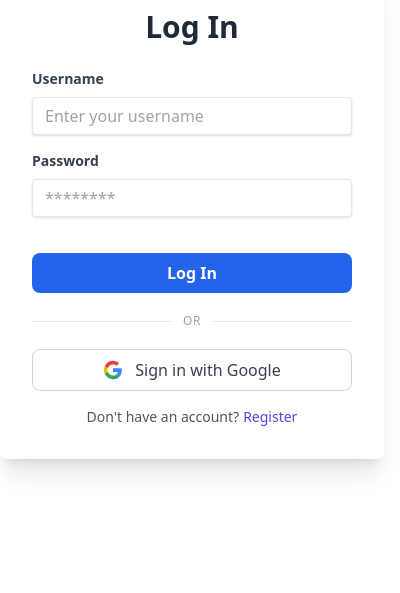
Test: LoginForm › renders Sign in with Google button and shows configuration hint on click when client ID is unset
Click the button "Sign in with Google" at (192, 370), box [32,349,352,391]
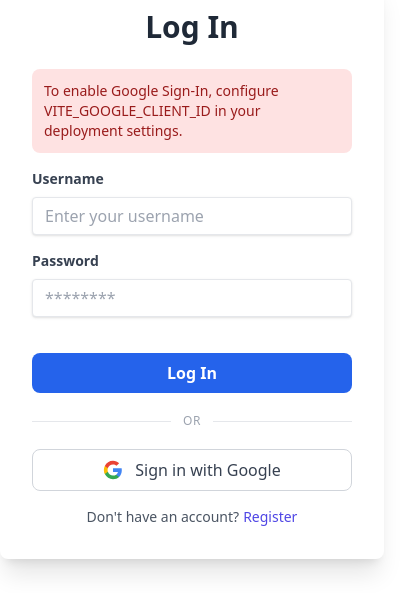
Expected: the text "To enable Google Sign-In, configure VITE_GOOGLE_CLIENT_ID" is shown, [44,81,279,140]
